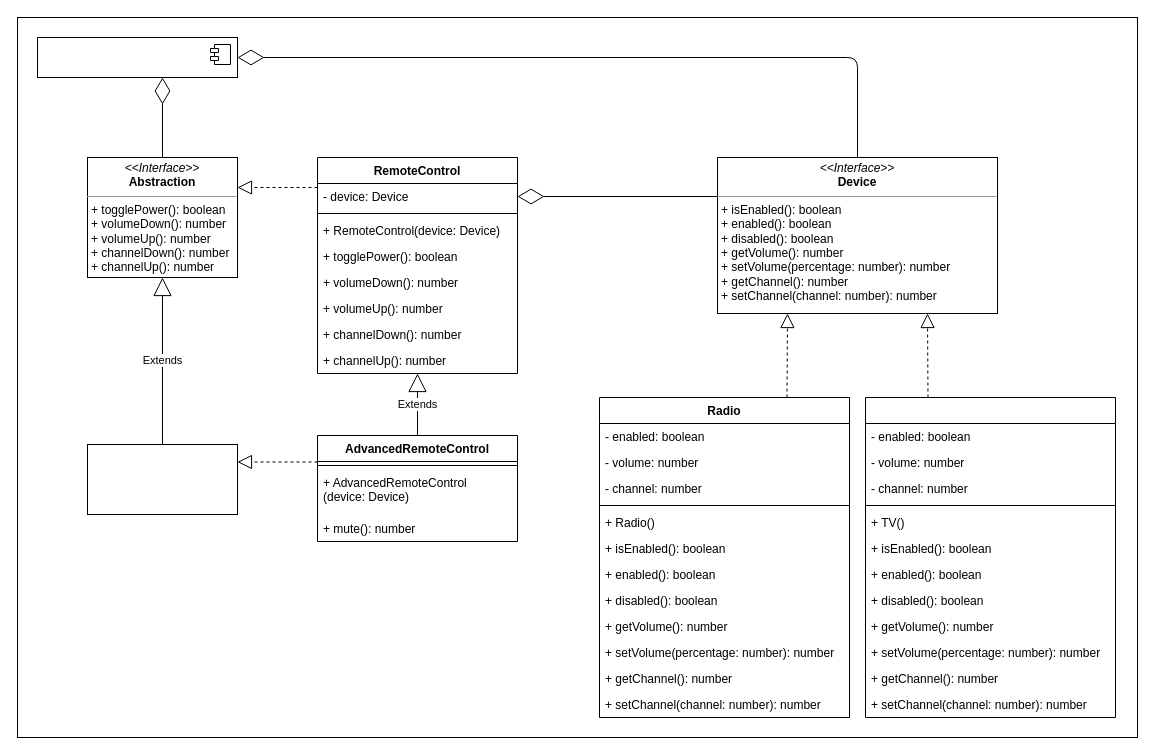
The diagram is 1155 pixels wide and 755 high, and some of its shapes have lost their labels. The shapes that lost their labels are listed below. From the top down, each one's box as (x1, y1, x2, y2) in pixels, then its label:
(36, 36, 238, 78): Bridge.component
(86, 444, 238, 514): <<Interface>> RefinedAbstraction + mute(): boolean
(864, 396, 1116, 718): TV
